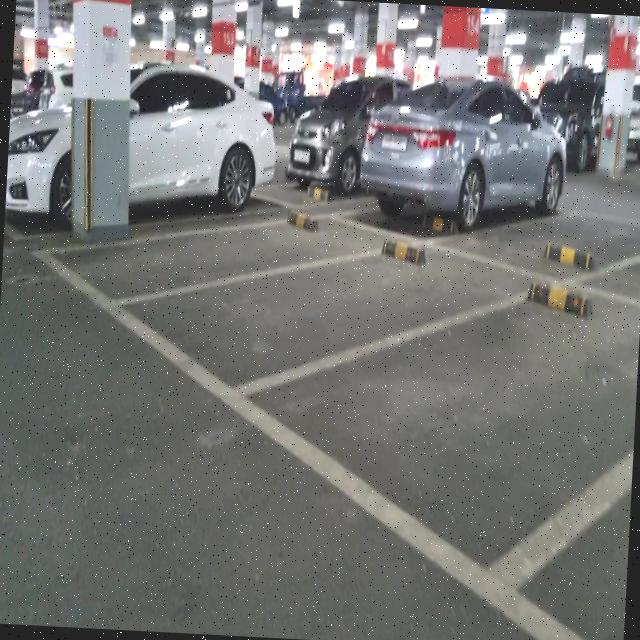empty: (217, 261, 640, 602), (109, 212, 557, 407), (34, 188, 402, 319)
occupied: (3, 65, 266, 254)
